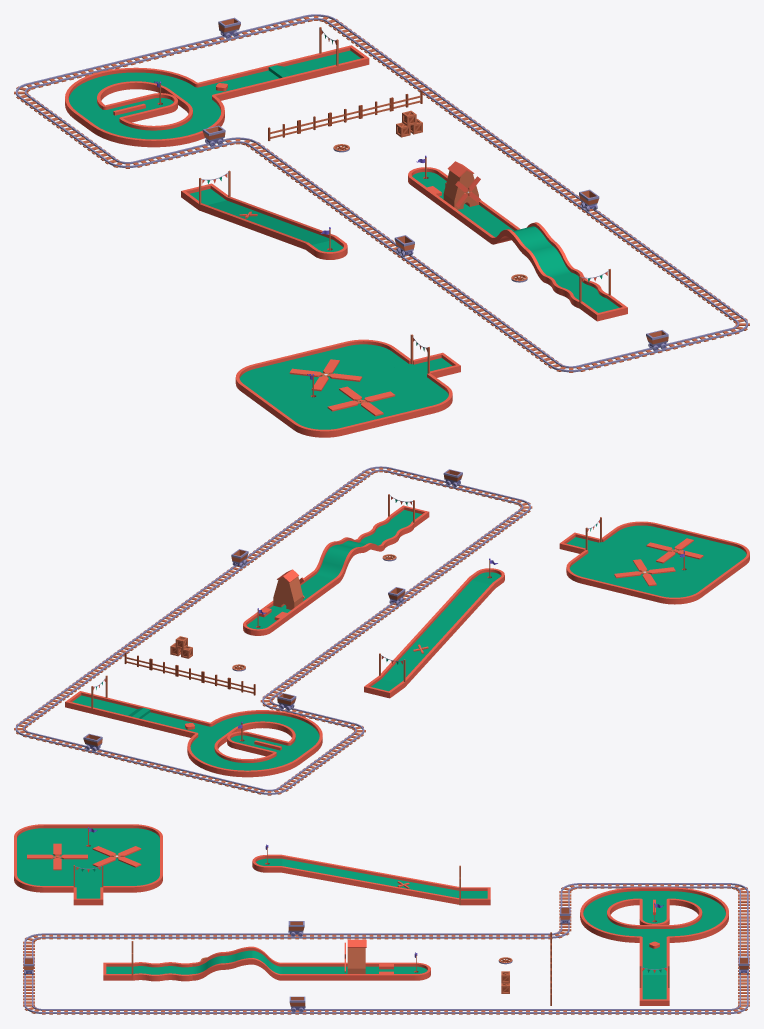
Rendered from course-train.glb.
3 views of the same model, one above another, from view 1: azimuth 30°, elevation 25°; view 2: azimuth 150°, elevation 25°; view 3: azimuth 270°, elevation 25° (orthographic). The views are drawn at different scales.
Visible parts, largest first — view 1: bend_large (×4), straight (×2), building_windmillWicks (×2), slope_smoothB, slope_smoothA, building_windmill, spawn1, spawn2, straight_slopeBlock, spawn4, straight_mid, spawn3 (+1 smaller); view 2: bend_large (×4), slope_straightA (×6), straight (×2), slope_smoothC, building_windmill, spawn3, spawn2, straight_slopeBlock, spawn4, straight_mid; view 3: bend_large (×4), side (×10), slope_straightA (×6), straight (×5), open (×6), bend_open (×4), straight_wiggle (×2), building_windmillWicks (×2), end_roundHole (×2), split (×2), straight_narrowSquare, slope_smoothB (+10 smaller).
Boxes of the visible parts, left/top/right/bottom form: bend_large (×4): left=65, top=67, right=224, bottom=147; straight (×2): left=229, top=53, right=338, bottom=94; building_windmillWicks (×2): left=289, top=359, right=395, bottom=416; slope_smoothB: left=526, top=242, right=574, bottom=281; slope_smoothA: left=508, top=223, right=556, bottom=256; building_windmill: left=444, top=161, right=478, bottom=200; spawn1: left=579, top=295, right=627, bottom=321; spawn2: left=321, top=45, right=369, bottom=71; straight_slopeBlock: left=259, top=60, right=307, bottom=86; spawn4: left=413, top=352, right=460, bottom=377; straight_mid: left=105, top=98, right=153, bottom=122; spawn3: left=181, top=183, right=228, bottom=209; bend_large (×4): left=187, top=710, right=322, bottom=777; slope_straightA (×6): left=380, top=577, right=495, bottom=686; straight (×2): left=91, top=697, right=183, bottom=732; slope_smoothC: left=313, top=544, right=353, bottom=582; building_windmill: left=273, top=569, right=302, bottom=602; spawn3: left=364, top=675, right=404, bottom=698; spawn2: left=65, top=691, right=105, bottom=713; straight_slopeBlock: left=117, top=703, right=157, bottom=726; spawn4: left=559, top=532, right=599, bottom=553; straight_mid: left=247, top=735, right=288, bottom=756; bend_large (×4): left=580, top=887, right=728, bottom=942; side (×10): left=14, top=824, right=162, bottom=892; slope_straightA (×6): left=282, top=855, right=460, bottom=904; straight (×5): left=282, top=950, right=669, bottom=990; open (×6): left=43, top=839, right=133, bottom=889; bend_open (×4): left=14, top=824, right=162, bottom=892; straight_wiggle (×2): left=133, top=962, right=192, bottom=981; building_windmillWicks (×2): left=27, top=843, right=141, bottom=870; end_roundHole (×2): left=252, top=854, right=430, bottom=980; split (×2): left=639, top=887, right=669, bottom=940; straight_narrowSquare: left=371, top=962, right=401, bottom=980; slope_smoothB: left=192, top=952, right=222, bottom=980.
Bounding box in the file's own units: 14.7 × 1.99 × 24.7.
